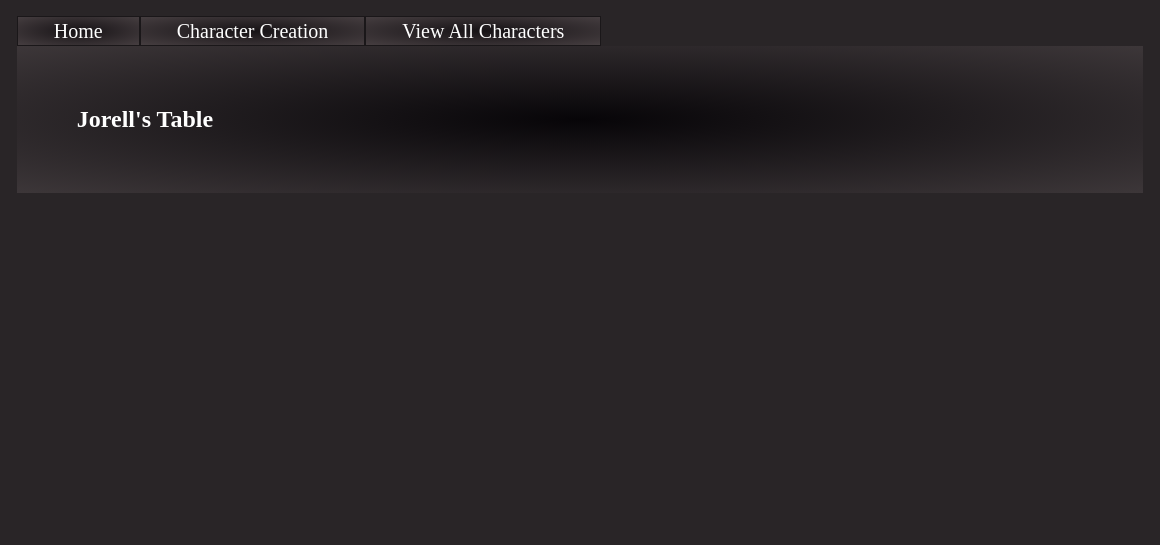
Test: navbar behaves properly › clicking buttons render the appropriate page
Click the link with test id "nav-button" showing "Character Creation": point(252, 31) x1=140 y1=16 x2=365 y2=46
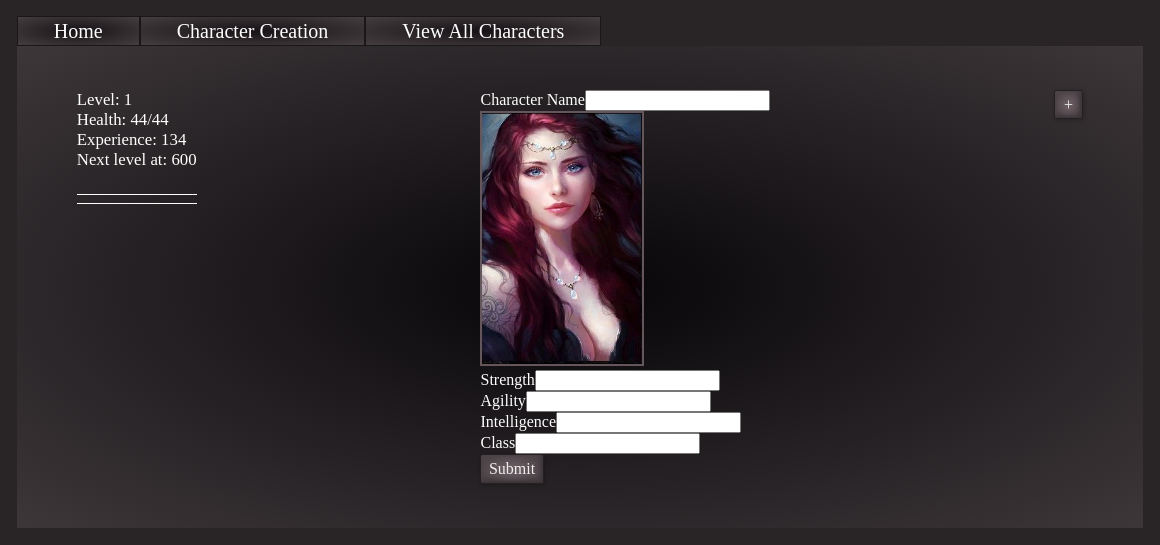
Expected: the element with test id "char-creation" is shown
Click the link with test id "nav-button" showing "View All Characters": point(483, 31) x1=365 y1=16 x2=601 y2=46
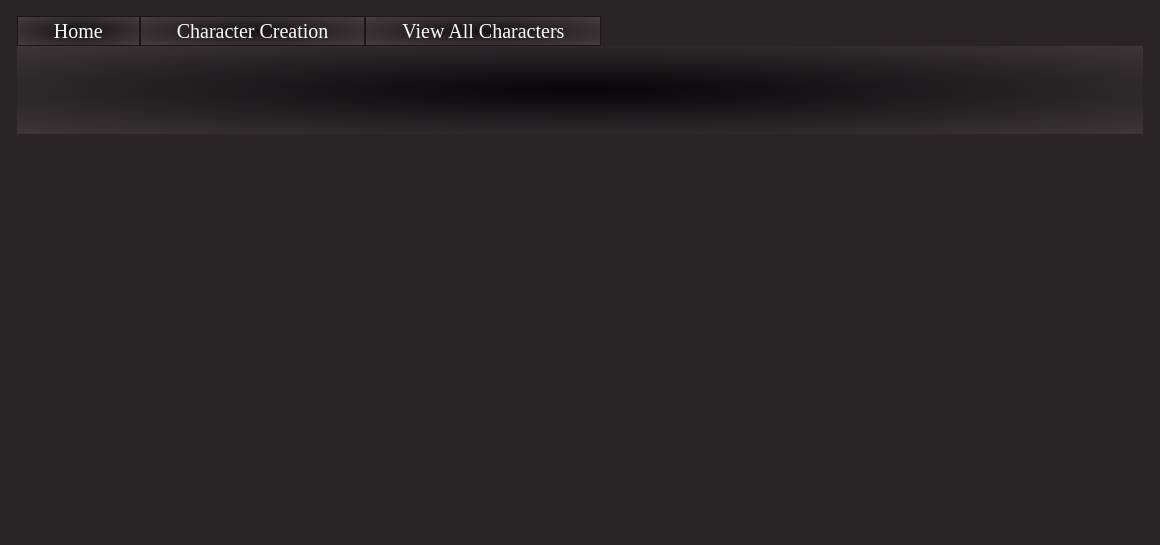
Click the link with test id "nav-button" showing "Home": point(78, 31) x1=17 y1=16 x2=140 y2=46
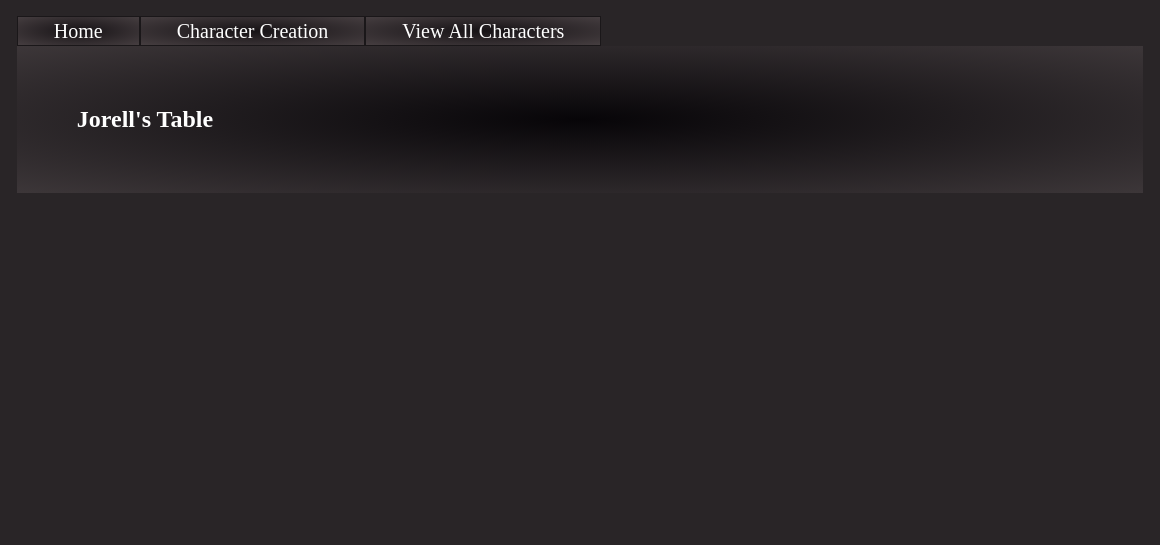
Expected: the heading "Jorell's Table" is shown, x1=77 y1=106 x2=213 y2=132
